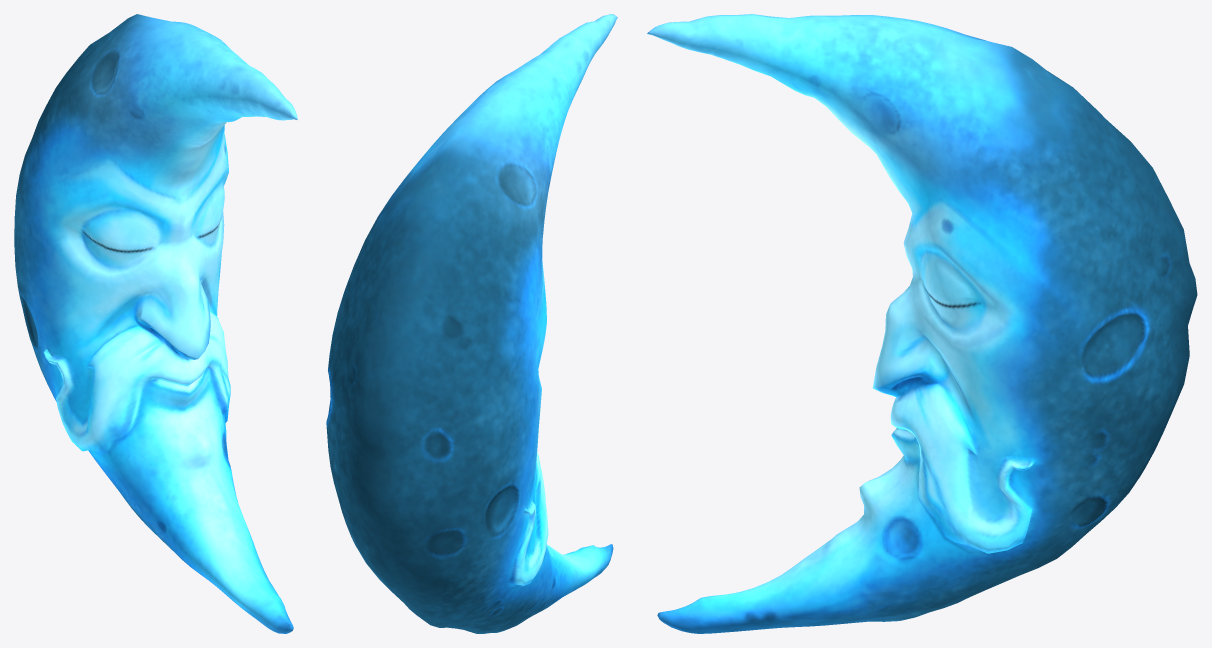
Rendered from moon_o.1d240bea.glb.
3 views of the same model, side by side, from view 1: azimuth 30°, elevation 25°; view 2: azimuth 150°, elevation 25°; view 3: azimuth 270°, elevation 25° (orthographic). The views are drawn at different scales.
Visible parts, largest first — view 1: crescent_moon.1; view 2: crescent_moon.1; view 3: crescent_moon.1.
Part boxes in pixels (x1=…): crescent_moon.1: x1=14, y1=14, x2=297, y2=633; crescent_moon.1: x1=326, y1=14, x2=617, y2=633; crescent_moon.1: x1=647, y1=14, x2=1197, y2=633.
Bounding box in the file's own units: 0.0216 × 0.0623 × 0.0504.
Materials: 1 (1 with a texture image).
